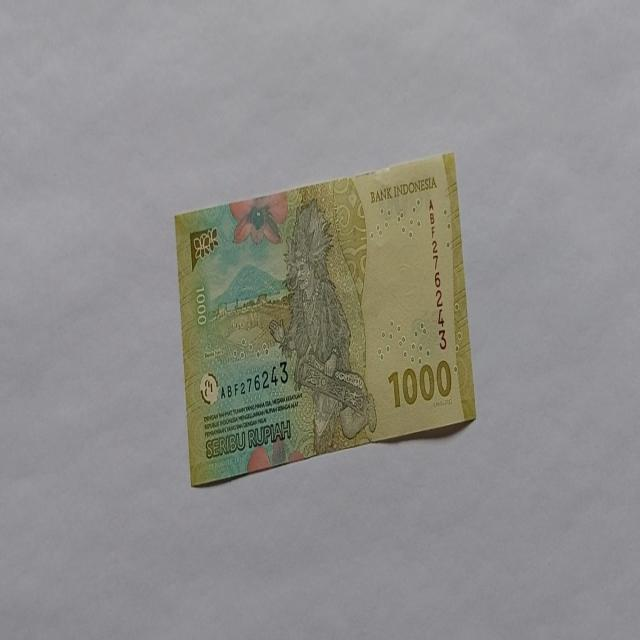seribu rupiah kertas: (173, 149, 477, 487)
